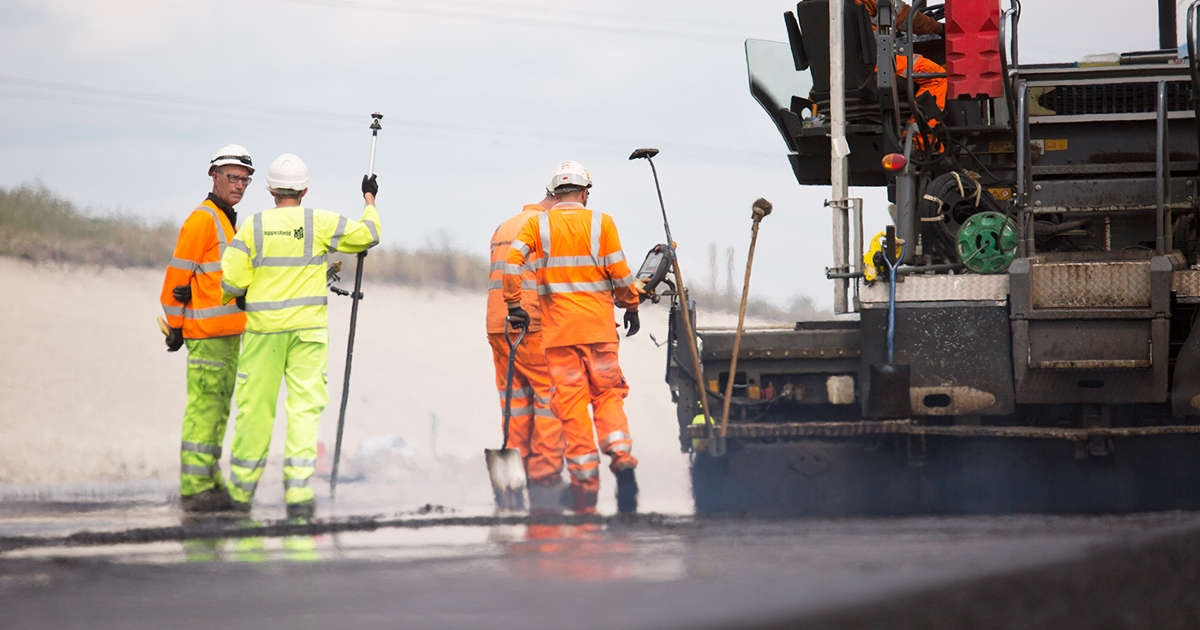white: (205, 141, 254, 204), (261, 150, 311, 204), (545, 156, 593, 207)
